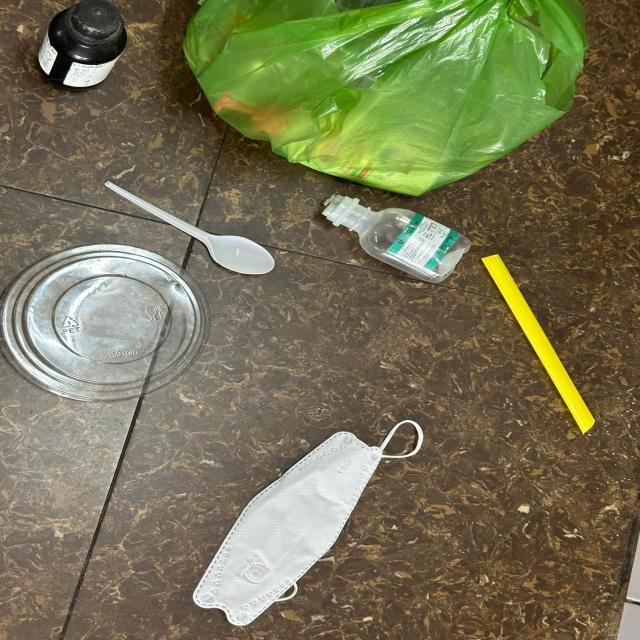bottle: (321, 192, 470, 280), (37, 0, 128, 88)
drinking straw: (482, 251, 595, 436)
lid: (0, 245, 208, 400)
mask: (193, 419, 424, 628)
plastic utensil: (106, 181, 276, 275)
trash bag: (185, 1, 586, 196)
